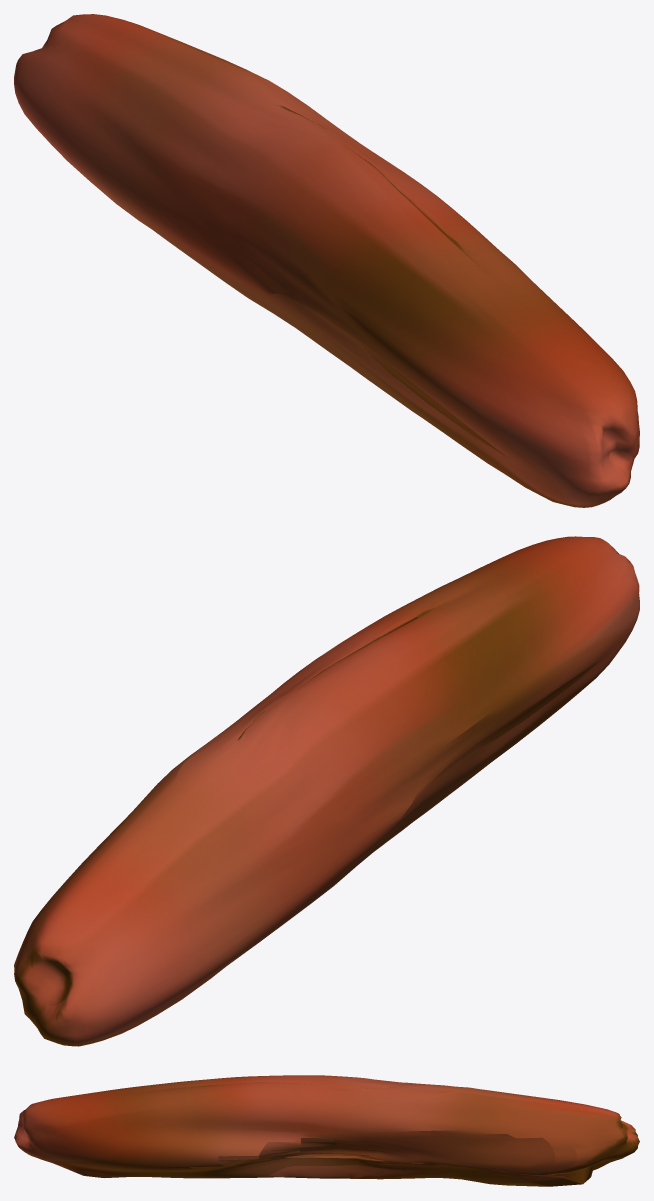
The model's file is Hotdog_Dog.fbx.
The picture shows the model from 3 angles, top to bottom: view 1: azimuth 30°, elevation 25°; view 2: azimuth 150°, elevation 25°; view 3: azimuth 270°, elevation 25°; orthographic projection. The views are drawn at different scales.
Visible parts, largest first — view 1: Hotdog; view 2: Hotdog; view 3: Hotdog.
Part boxes in pixels (x1=…): Hotdog: x1=14, y1=14, x2=639, y2=507; Hotdog: x1=14, y1=536, x2=639, y2=1046; Hotdog: x1=14, y1=1075, x2=639, y2=1186.
Bounding box in the file's own units: 64.84 × 73.03 × 405.
Materials: 1 (1 with a texture image).
